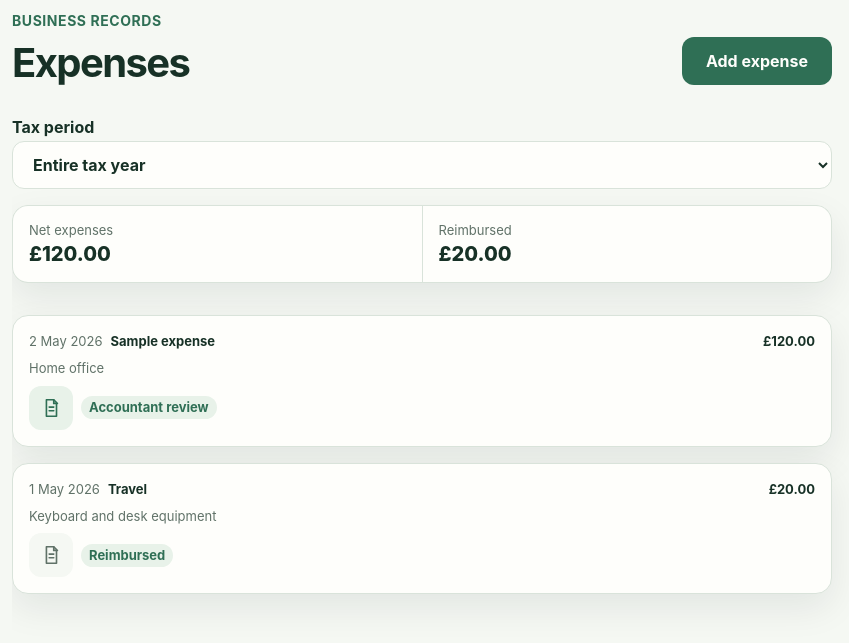
Test: keeps receipt failures generic
The width and height of the screenshot is (849, 643).
Click the button named "Open receipt for Sample expense": (51, 408) [29,386,73,430]
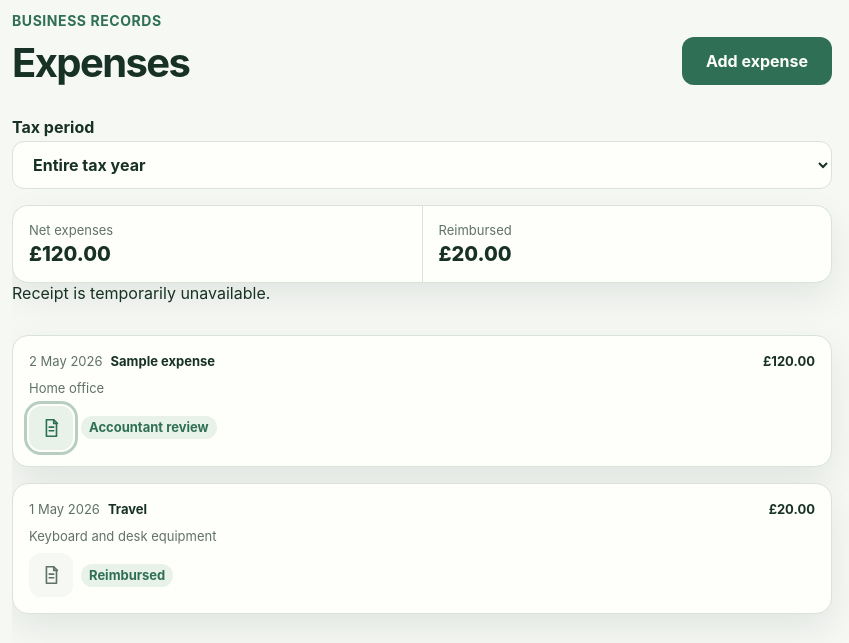
Expected: the message reads "Receipt is temporarily unavailable.", [12,283,270,303]
